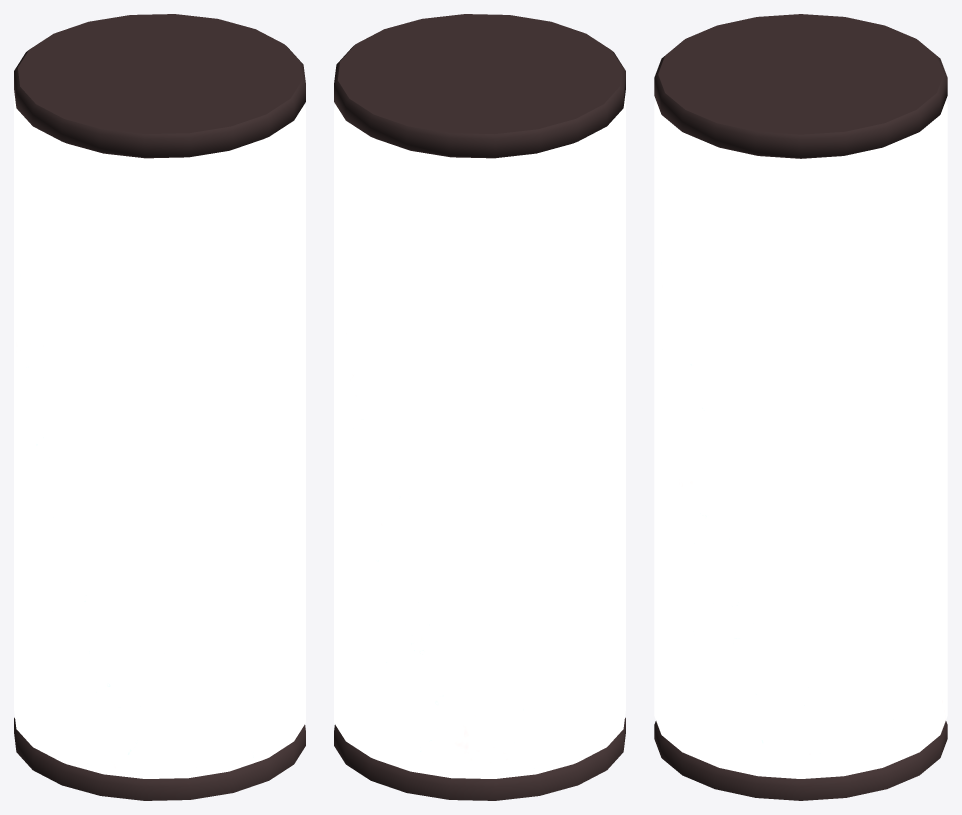
File: 008_pillar_var9_10.glb
3 renders of one model, left to right at view 1: azimuth 30°, elevation 25°; view 2: azimuth 150°, elevation 25°; view 3: azimuth 270°, elevation 25°, orthographic.
Visible parts, largest first — view 1: pillar; view 2: pillar; view 3: pillar.
Boxes of the visible parts, <box> form: pillar: <box>14,14,305,800</box>; pillar: <box>334,14,625,800</box>; pillar: <box>654,14,947,800</box>.
Bounding box in the file's own units: 0.75 × 1.87 × 0.75.
Materials: 2 (1 with a texture image).
